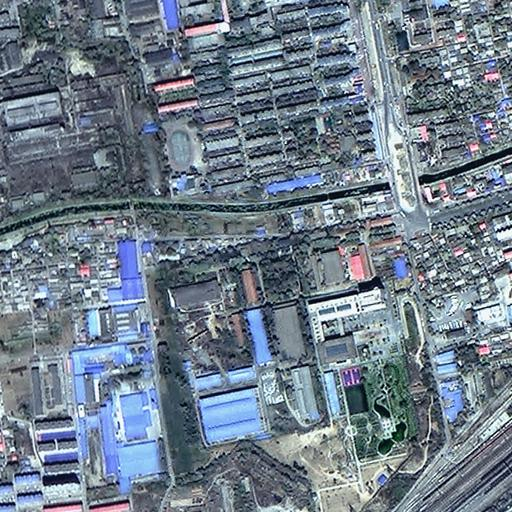school: (150, 74, 201, 175)
